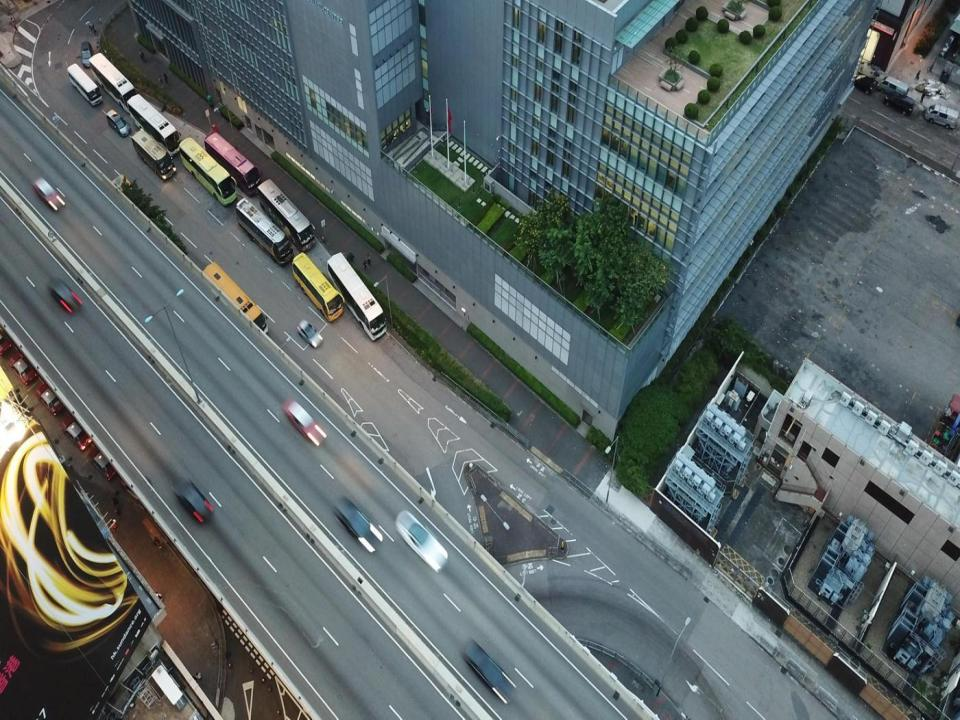bus: (326, 251, 388, 342), (199, 259, 269, 339), (257, 178, 316, 252), (178, 136, 238, 208), (235, 198, 294, 268), (290, 252, 346, 324), (125, 92, 186, 158), (203, 131, 262, 198), (90, 52, 136, 112), (131, 128, 178, 184), (67, 63, 102, 106)
car: (460, 634, 519, 708), (393, 506, 450, 573), (332, 494, 385, 556), (281, 396, 326, 446), (174, 479, 213, 526), (33, 175, 64, 212), (51, 275, 77, 316), (90, 448, 117, 483), (296, 318, 324, 350), (32, 384, 60, 416), (883, 88, 915, 116), (64, 419, 90, 452), (106, 110, 132, 140)
van: (925, 99, 956, 130), (878, 74, 910, 94), (78, 40, 95, 67)
